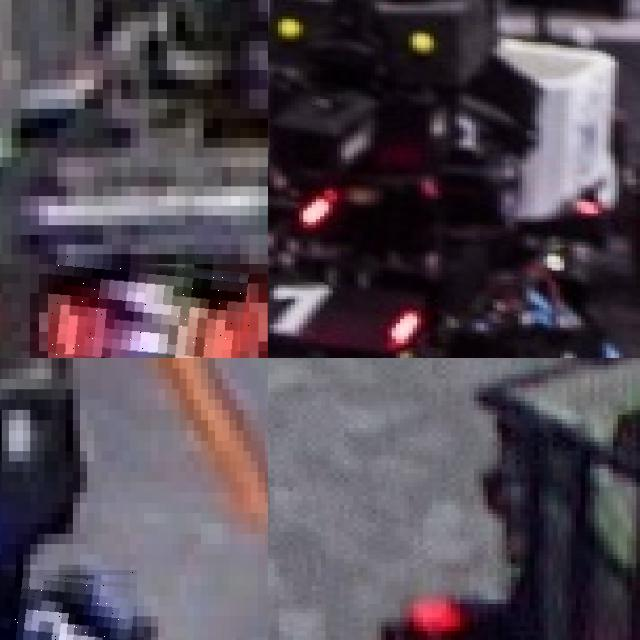B3: (0, 569, 137, 640)
R1: (268, 273, 416, 341)
R3: (48, 254, 249, 358)
